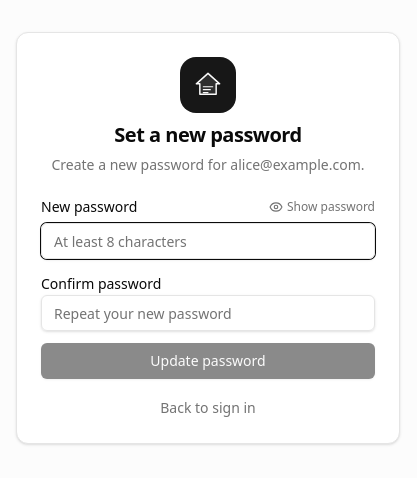
Test: AuthActionPage › resetPassword mode › shows strength meter once typing begins
The image size is (417, 478).
expect the text "password strength" is not shown: met
Type "a" into the password field labelled "New password" at (208, 241), box [41, 223, 375, 259]
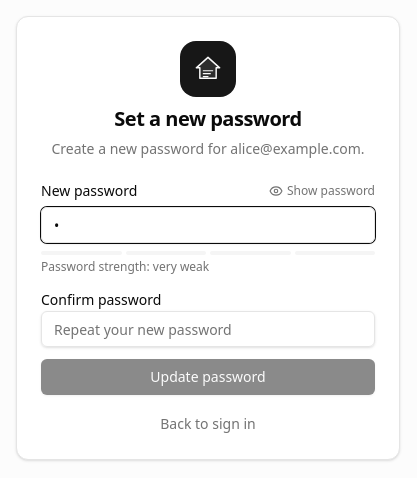
expect the text "Password strength: very weak" is shown: met, box [41, 258, 209, 275]
